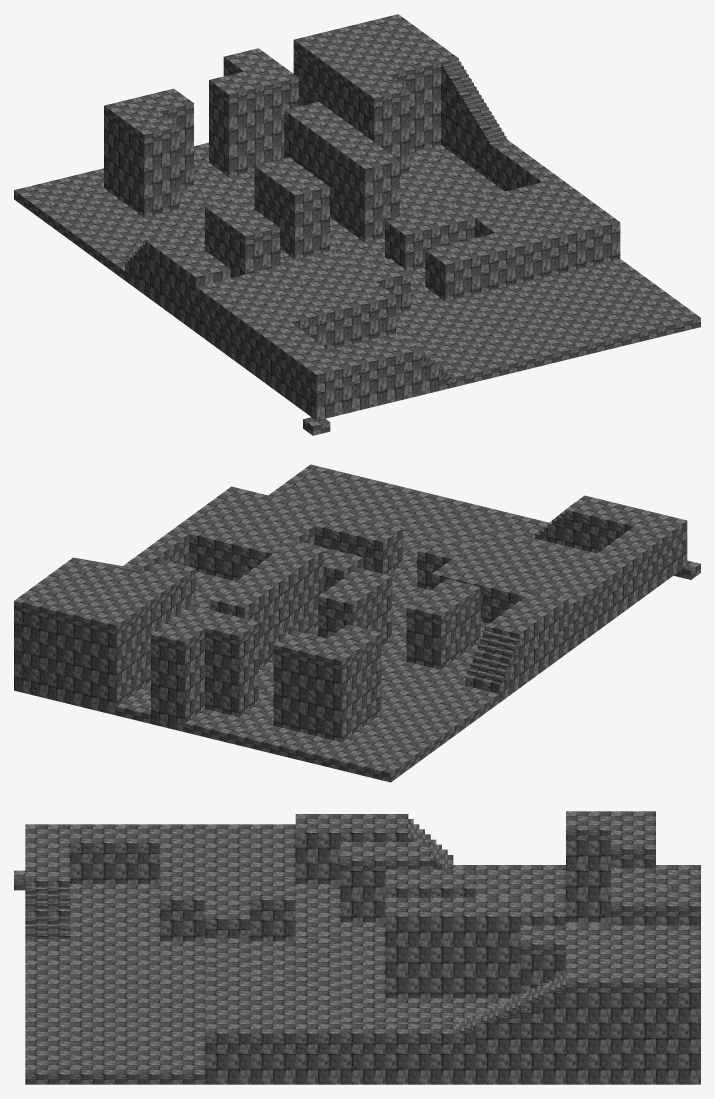
File: MAP429.obj
3 renders of one model, top to bottom at view 1: azimuth 30°, elevation 25°; view 2: azimuth 150°, elevation 25°; view 3: azimuth 270°, elevation 25°, orthographic. The views are drawn at different scales.
Parts seen in each view (by area): view 1: mesh_4; view 2: mesh_4; view 3: mesh_4.
Boxes of the visible parts, x1=… form: mesh_4: x1=14, y1=14, x2=700, y2=420; mesh_4: x1=14, y1=464, x2=687, y2=782; mesh_4: x1=25, y1=811, x2=700, y2=1084.
Size of the model in its own units: 288 by 70.4 by 390.
Materials: 1 (1 with a texture image).
